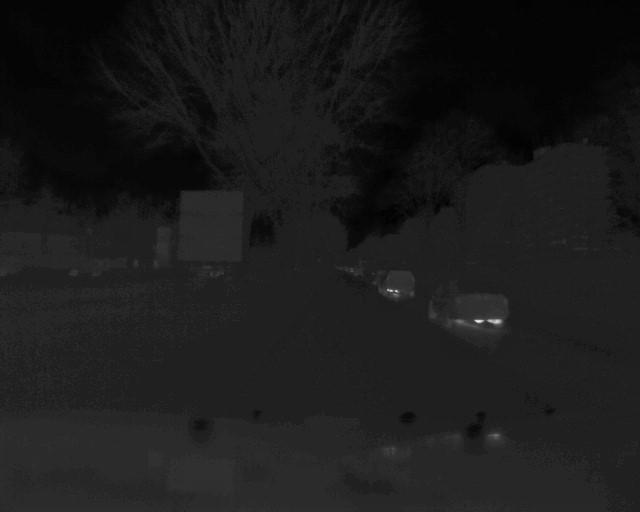car: (425, 280, 515, 328), (379, 267, 417, 303)
